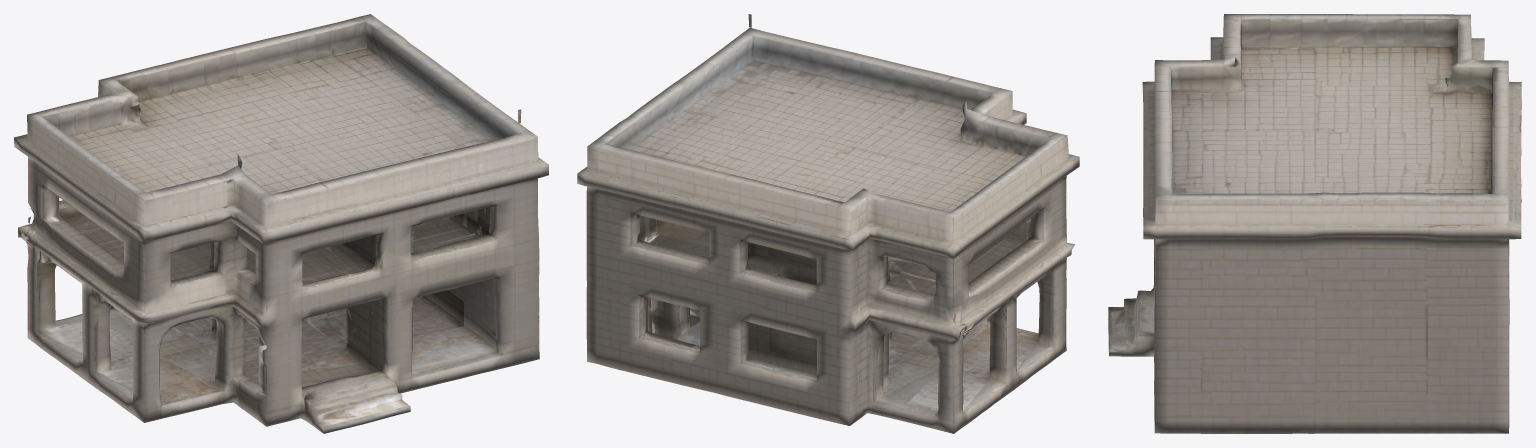
File: Unfinished_Structure_0617162302_texture.fbx
The picture shows the model from 3 angles, left to right: view 1: azimuth 30°, elevation 25°; view 2: azimuth 150°, elevation 25°; view 3: azimuth 270°, elevation 25°; orthographic projection. The views are drawn at different scales.
Parts seen in each view (by area): view 1: Mesh1; view 2: Mesh1; view 3: Mesh1.
Part boxes in pixels (box(x1,y1,x2,y2)): Mesh1: box(14, 14, 548, 433); Mesh1: box(577, 14, 1079, 433); Mesh1: box(1108, 14, 1521, 433).
Size of the model in its own units: 200 by 126 by 183.
Materials: 1 (1 with a texture image).
